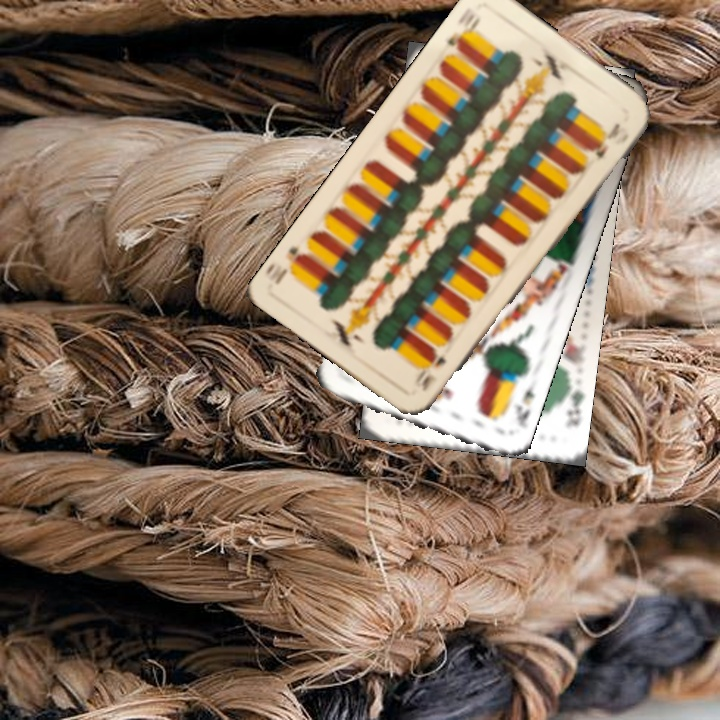E10: (443, 3, 484, 55), (417, 351, 449, 394)
EK: (509, 377, 538, 428)
GK: (557, 378, 586, 429)
